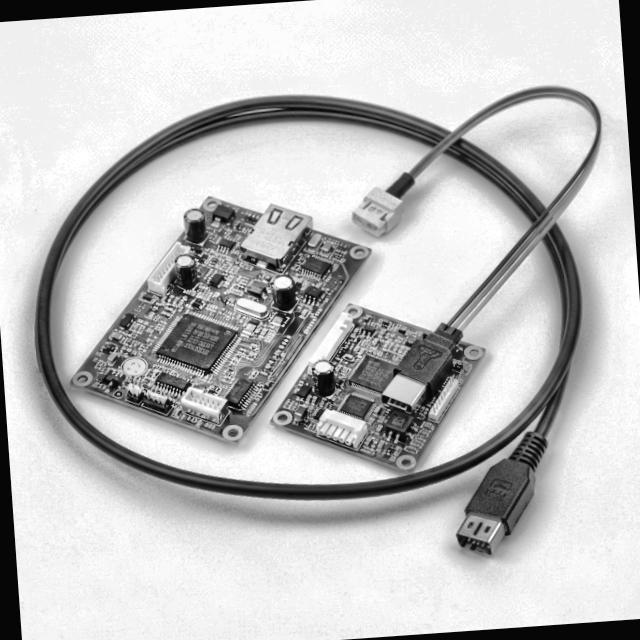Cable: (13, 58, 632, 584)
PCB: (53, 177, 383, 456), (257, 290, 498, 483)
